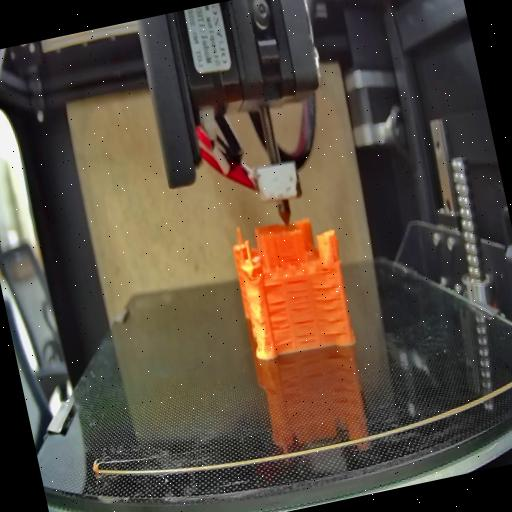cracks: (310, 279, 351, 341), (263, 295, 295, 349), (284, 273, 312, 312), (292, 314, 318, 344), (261, 280, 284, 294)
